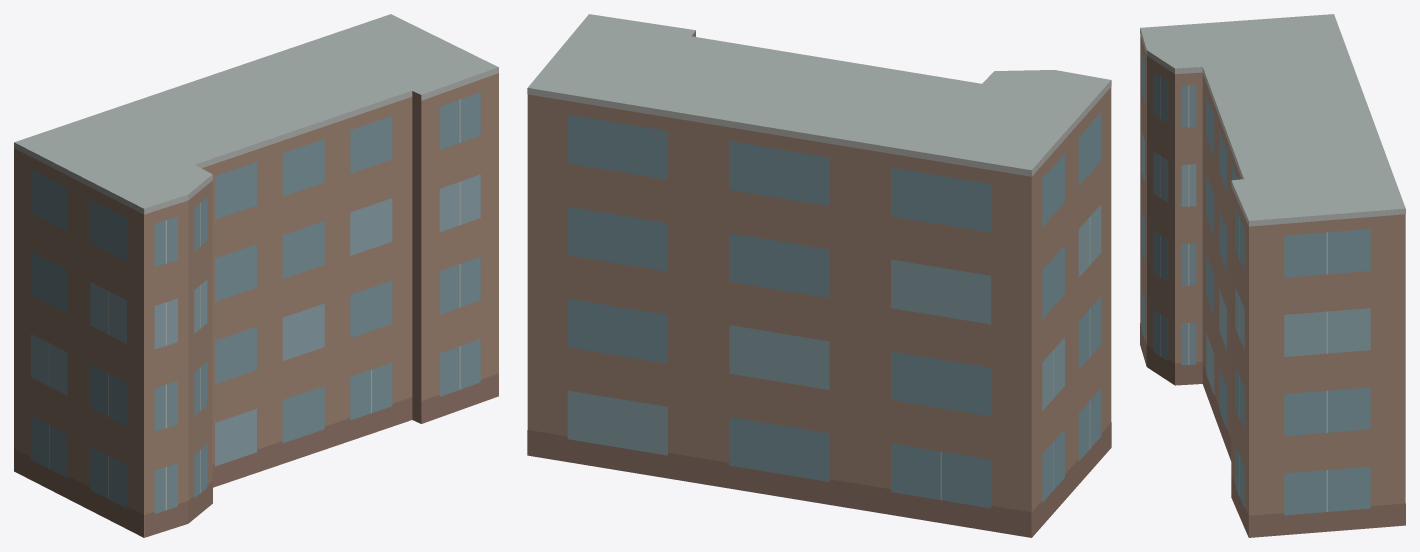
Rendered from survey-upis-32926994.glb.
3 renders of one model, left to right at view 1: azimuth 30°, elevation 25°; view 2: azimuth 150°, elevation 25°; view 3: azimuth 270°, elevation 25°, orthographic. The views are drawn at different scales.
Visible parts, largest first — view 1: survey-upis-32926994.tmp; view 2: survey-upis-32926994.tmp; view 3: survey-upis-32926994.tmp.
Part boxes in pixels (left/top/right/bottom): survey-upis-32926994.tmp: left=14, top=14, right=498, bottom=537; survey-upis-32926994.tmp: left=527, top=14, right=1111, bottom=537; survey-upis-32926994.tmp: left=1140, top=14, right=1405, bottom=537.
Bounding box in the file's own units: 19.31 × 13.78 × 10.48.
